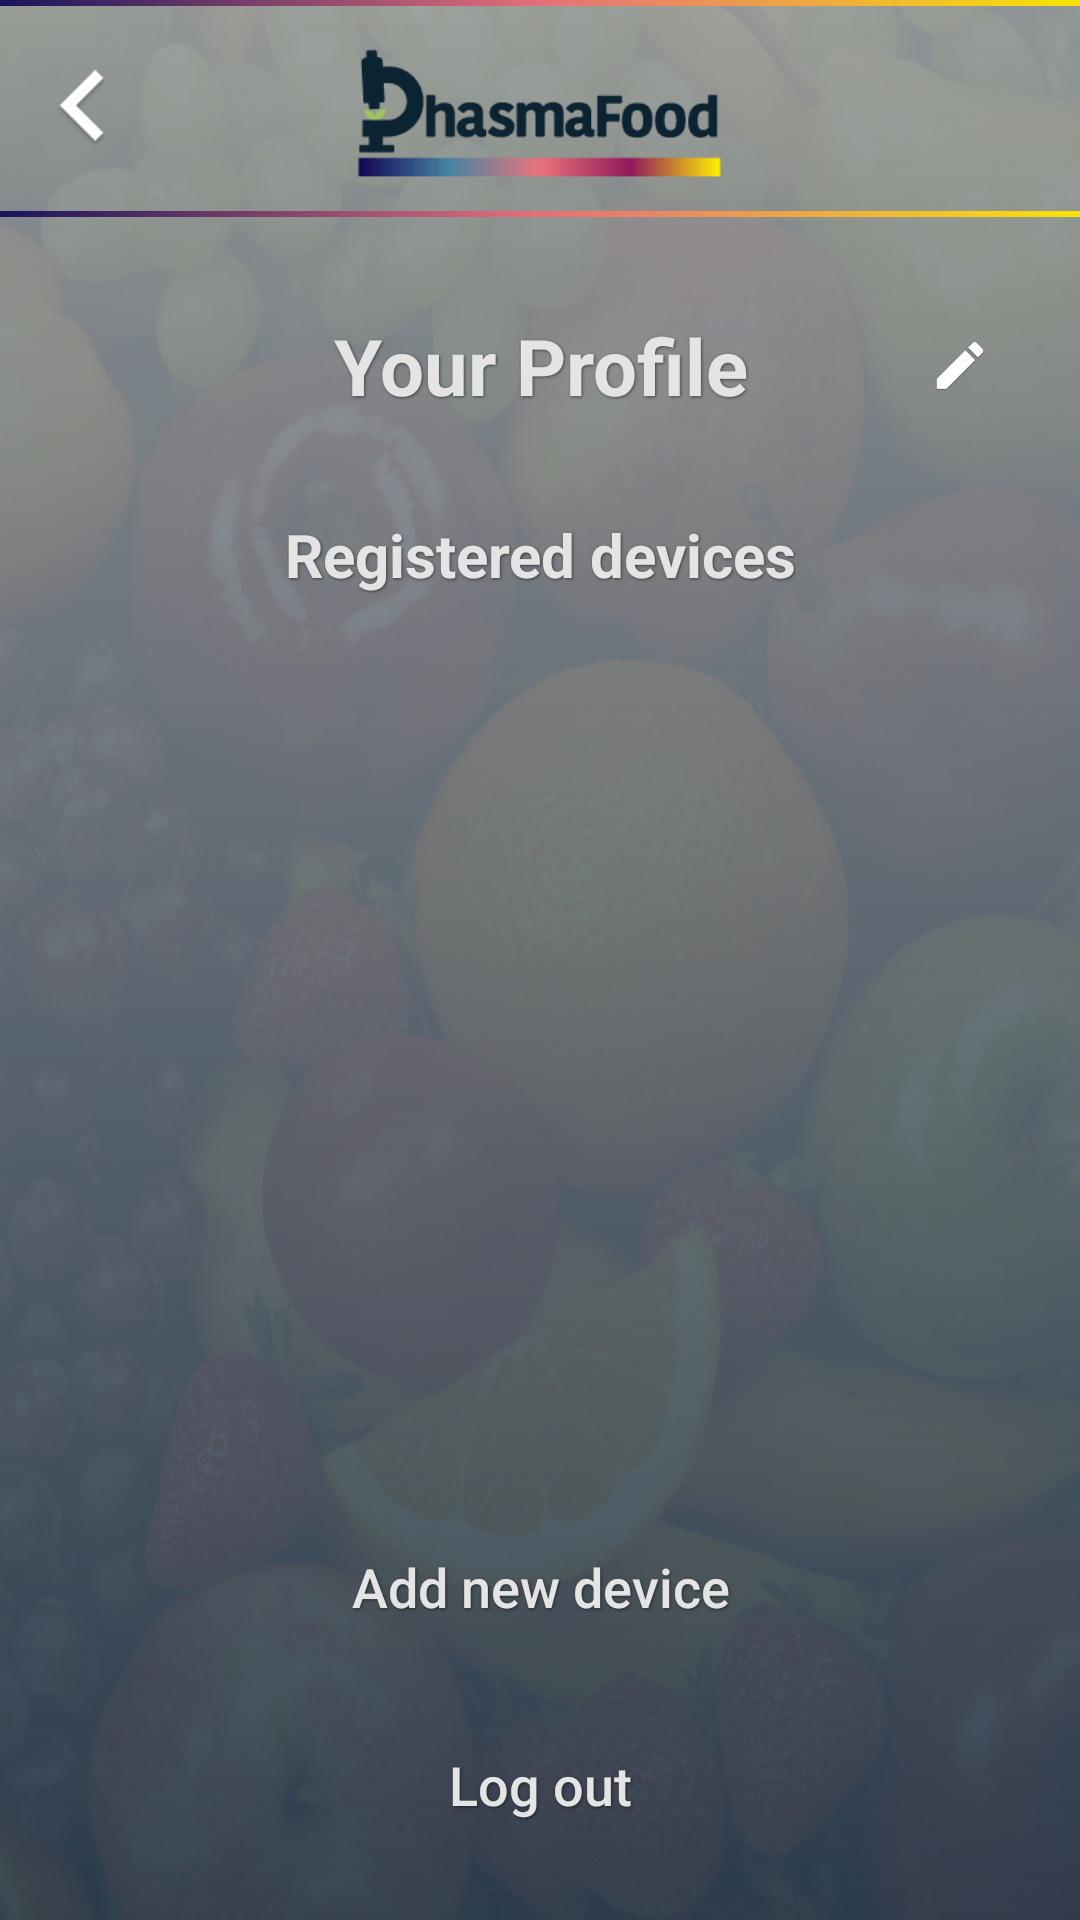

Named icons in this screenshot (1080px×1920px) and their bounding boxes, [x1, y1, x2, y2]:
back: [60, 70, 103, 143]
edit: [937, 342, 983, 390]
